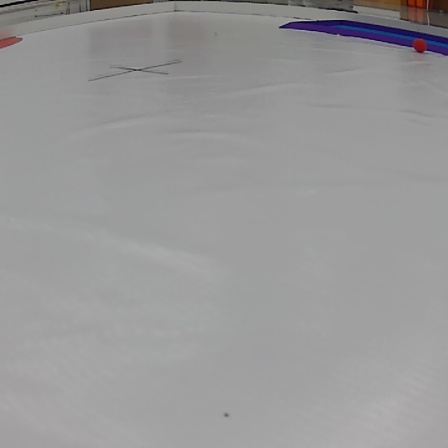blue_aim: (282, 10, 447, 63)
red: (412, 37, 427, 54)
red_base: (0, 30, 26, 50)
